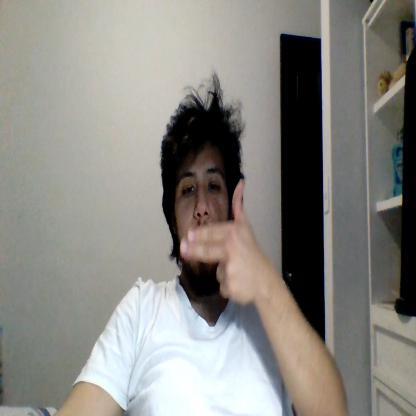H: (180, 180, 258, 305)
